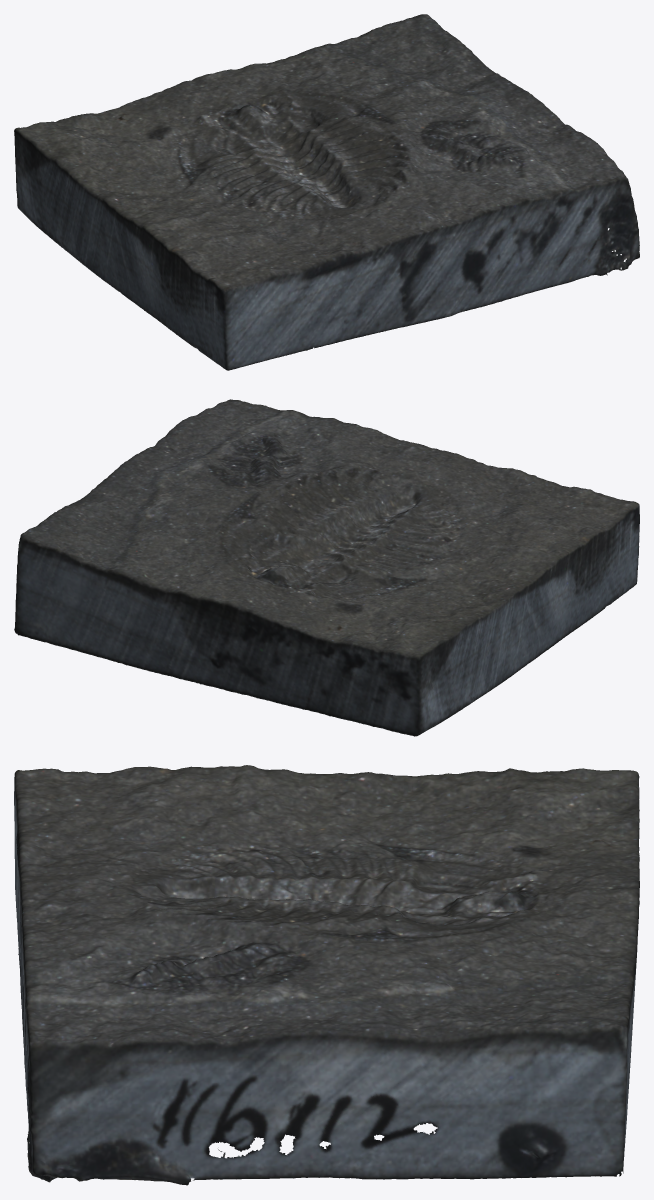
3 views of the same model, one above another, from view 1: azimuth 30°, elevation 25°; view 2: azimuth 150°, elevation 25°; view 3: azimuth 270°, elevation 25° (orthographic). The views are drawn at different scales.
Size of the model in its own units: 24.47 by 6.37 by 21.5.
Materials: 1 (1 with a texture image).
